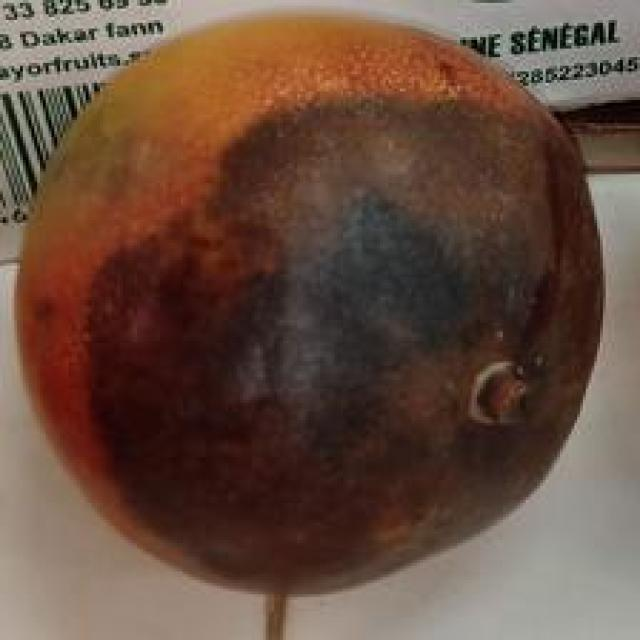Bad_Mango: (16, 15, 604, 593)
